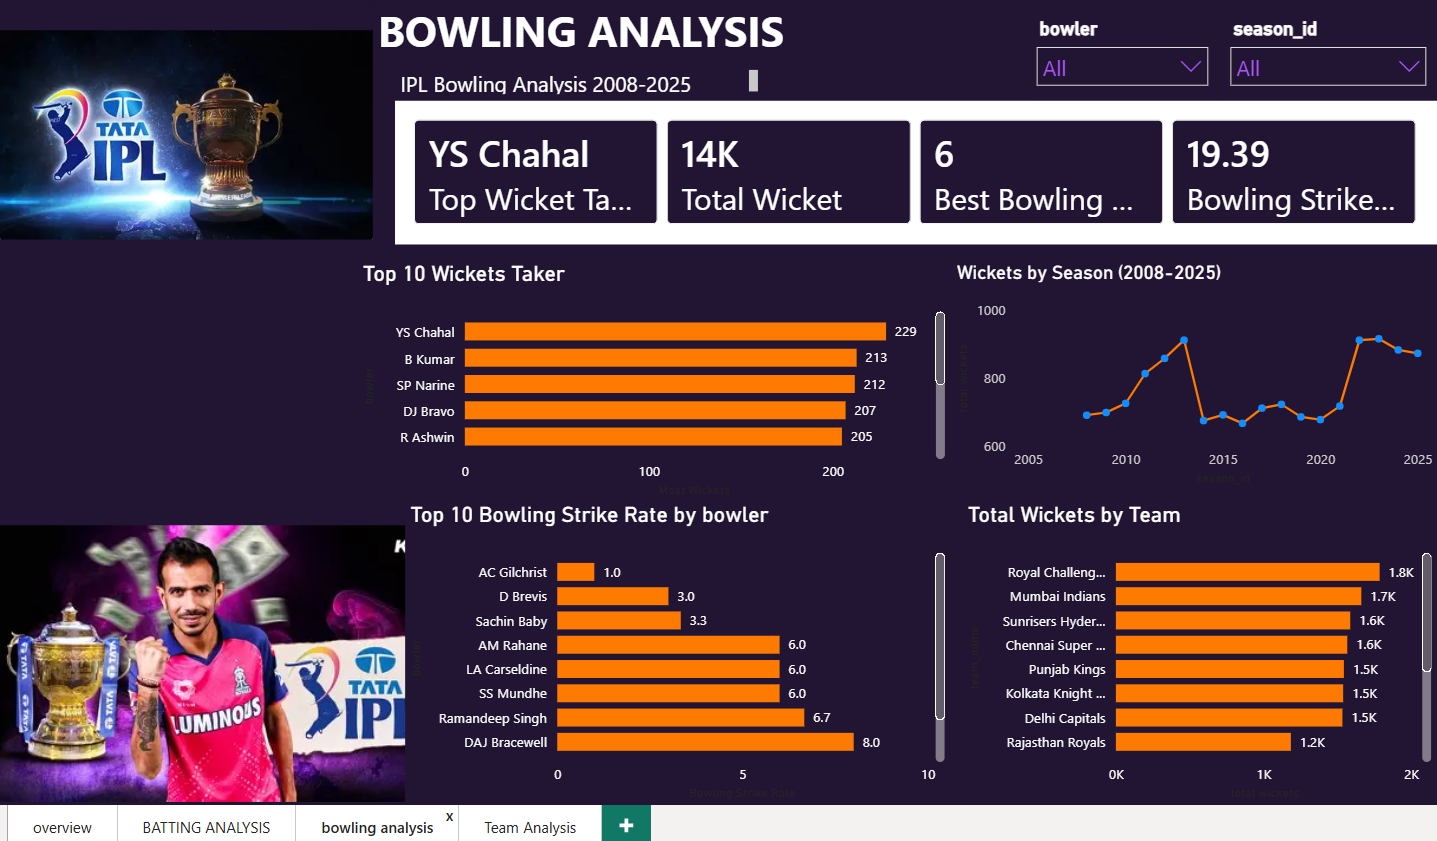

The dashboard page shown, as its layout file describes it:
{"tool":"powerbi","page":{"name":"bowling analysis","canvas":[1280,720],"ordinal":2},"visuals":[{"type":"cardVisual","fields":{"Data":["ball_by_ball_data.Top Wicket Taker","ball_by_ball_data.Total Wicket","ball_by_ball_data.Best Bowling Wickets","ball_by_ball_data.Bowling Strike Rate"]},"box":[351.3,91.9,929,127.6],"z":0},{"type":"clusteredBarChart","title":"Top 10 Wickets Taker","fields":{"Category":["ball_by_ball_data.bowler"],"Y":["ball_by_ball_data.Most Wickets"]},"box":[318.4,234.6,528.3,215.4],"z":1000},{"type":"lineChart","title":"Wickets by Season (2008-2025)","fields":{"Category":["ball_by_ball_data.season_id"],"Y":["ball_by_ball_data.total wickets"]},"box":[846.7,234.6,433.6,204.5],"z":2000},{"type":"clusteredBarChart","title":"Top 10 Bowling Strike Rate by bowler","fields":{"Category":["ball_by_ball_data.bowler"],"Y":["ball_by_ball_data.Bowling Strike Rate"]},"box":[360.9,450.1,485.8,270.3],"z":3000},{"type":"barChart","title":"Total Wickets by Team","fields":{"Category":["teams_data.team_name"],"Y":["ball_by_ball_data.total wickets"]},"box":[857.6,450.1,422.6,270.3],"z":4000},{"type":"textbox","box":[332.1,0,385.6,60.4],"z":5000},{"type":"textbox","box":[351.3,60.4,328,31.6],"z":6000},{"type":"image","box":[0,466.6,360.9,253.9],"z":7000},{"type":"image","box":[0,0,332.1,245.6],"z":8000},{"type":"slicer","fields":{"Values":["ball_by_ball_data.bowler"]},"box":[912.5,13.7,172.9,78.2],"z":9000},{"type":"slicer","fields":{"Values":["ball_by_ball_data.season_id"]},"box":[1085.4,13.7,194.9,78.2],"z":10000}]}

Visuals, with their boxes on the page's 1280x720 design canvas (x1, y1, x2, y2). These are canvas units, not pixel positions in the 1437x841 screenshot, which may show the page scaled, cropped or inside an application window:
cardVisual - ball_by_ball_data.Top Wicket Taker x ball_by_ball_data.Total Wicket: box(351, 92, 1280, 220)
"Top 10 Wickets Taker" clusteredBarChart: box(318, 235, 847, 450)
"Wickets by Season (2008-2025)" lineChart: box(847, 235, 1280, 439)
"Top 10 Bowling Strike Rate by bowler" clusteredBarChart: box(361, 450, 847, 720)
"Total Wickets by Team" barChart: box(858, 450, 1280, 720)
textbox: box(332, 0, 718, 60)
textbox: box(351, 60, 679, 92)
image: box(0, 467, 361, 720)
image: box(0, 0, 332, 246)
slicer - ball_by_ball_data.bowler: box(912, 14, 1085, 92)
slicer - ball_by_ball_data.season_id: box(1085, 14, 1280, 92)
